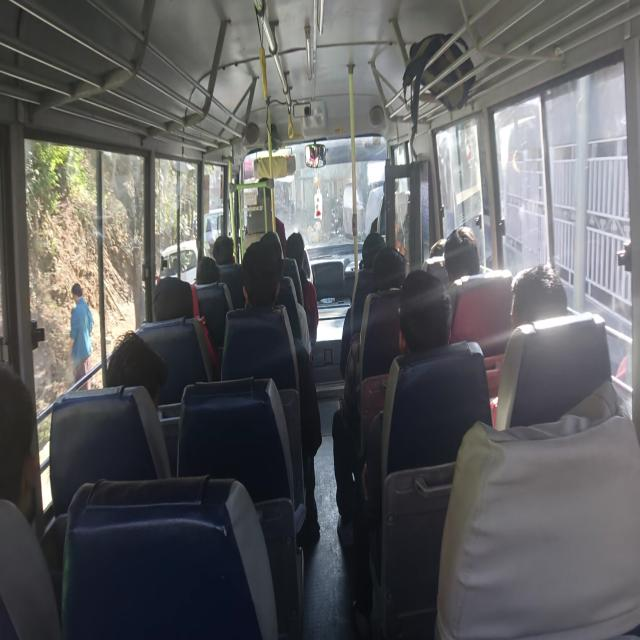person: (0, 371, 87, 542), (509, 243, 611, 357), (395, 291, 471, 430), (115, 319, 185, 406), (142, 263, 200, 319), (443, 224, 482, 284), (375, 245, 411, 302), (202, 228, 244, 276), (243, 255, 282, 298), (198, 254, 230, 298), (354, 232, 390, 260), (262, 239, 284, 280), (288, 230, 310, 270), (429, 233, 455, 266)
